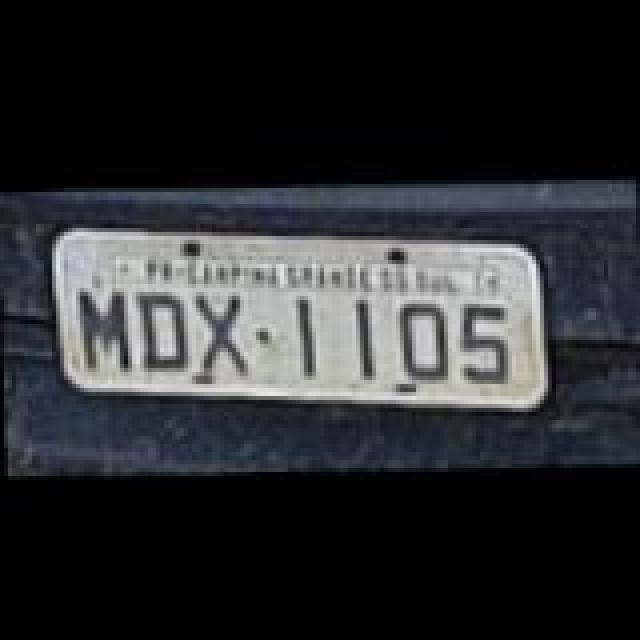1: (352, 294, 376, 374), (298, 292, 318, 372)
5: (458, 296, 510, 376)
D: (136, 288, 192, 368), (396, 296, 452, 376)
M: (74, 284, 134, 368)
X: (192, 286, 248, 366)
